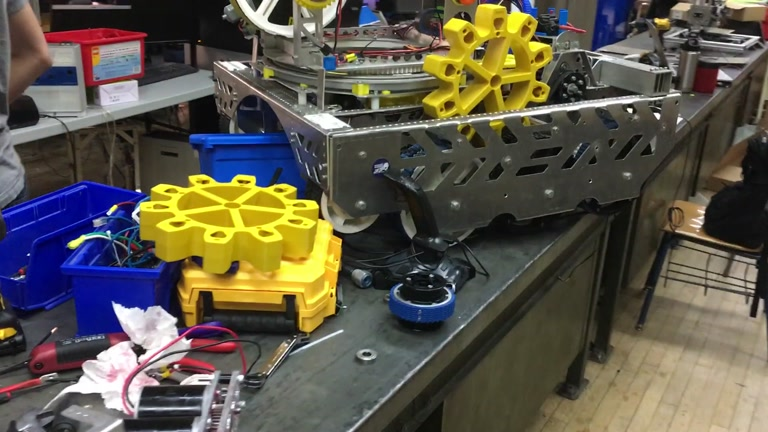gear: (420, 4, 553, 147), (140, 173, 318, 276)
